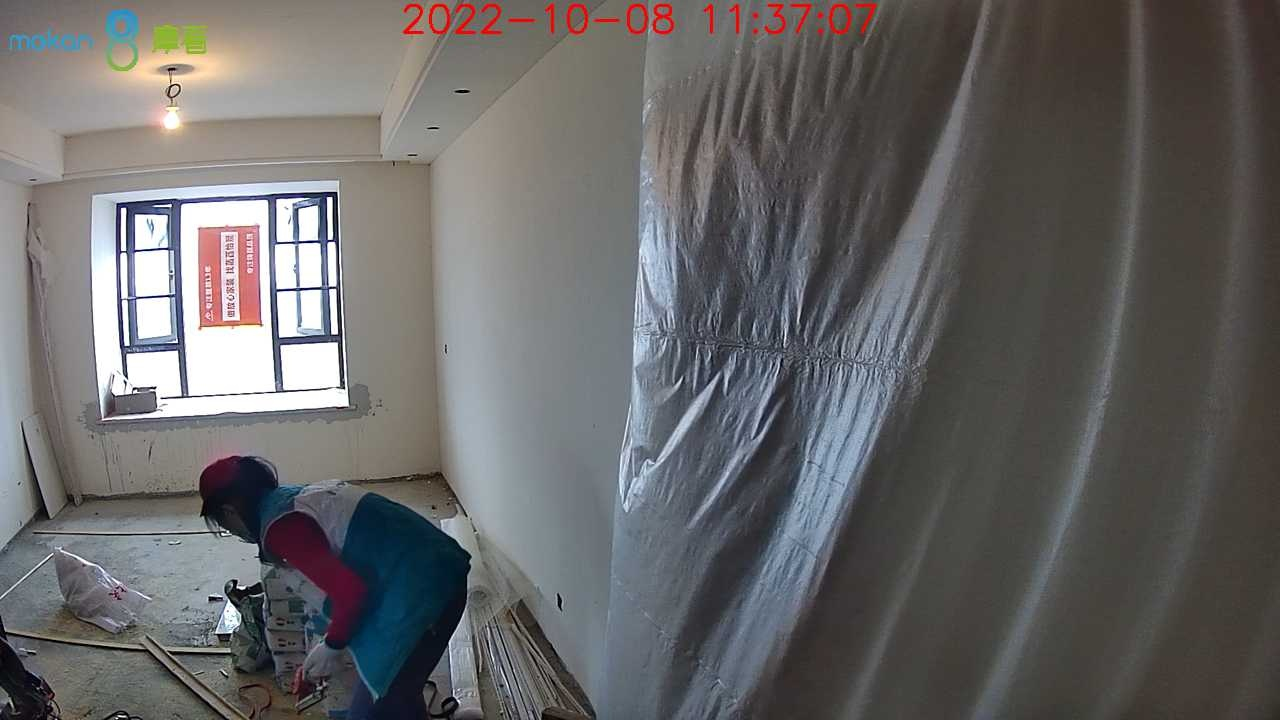people: (198, 457, 473, 720)
window: (114, 198, 344, 396)
